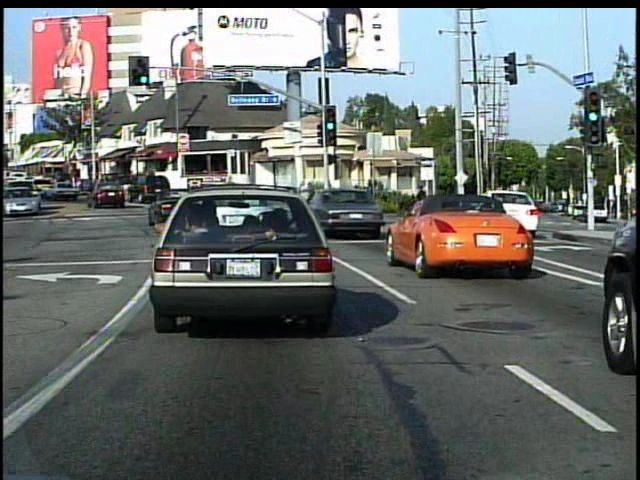person: (414, 181, 431, 222)
